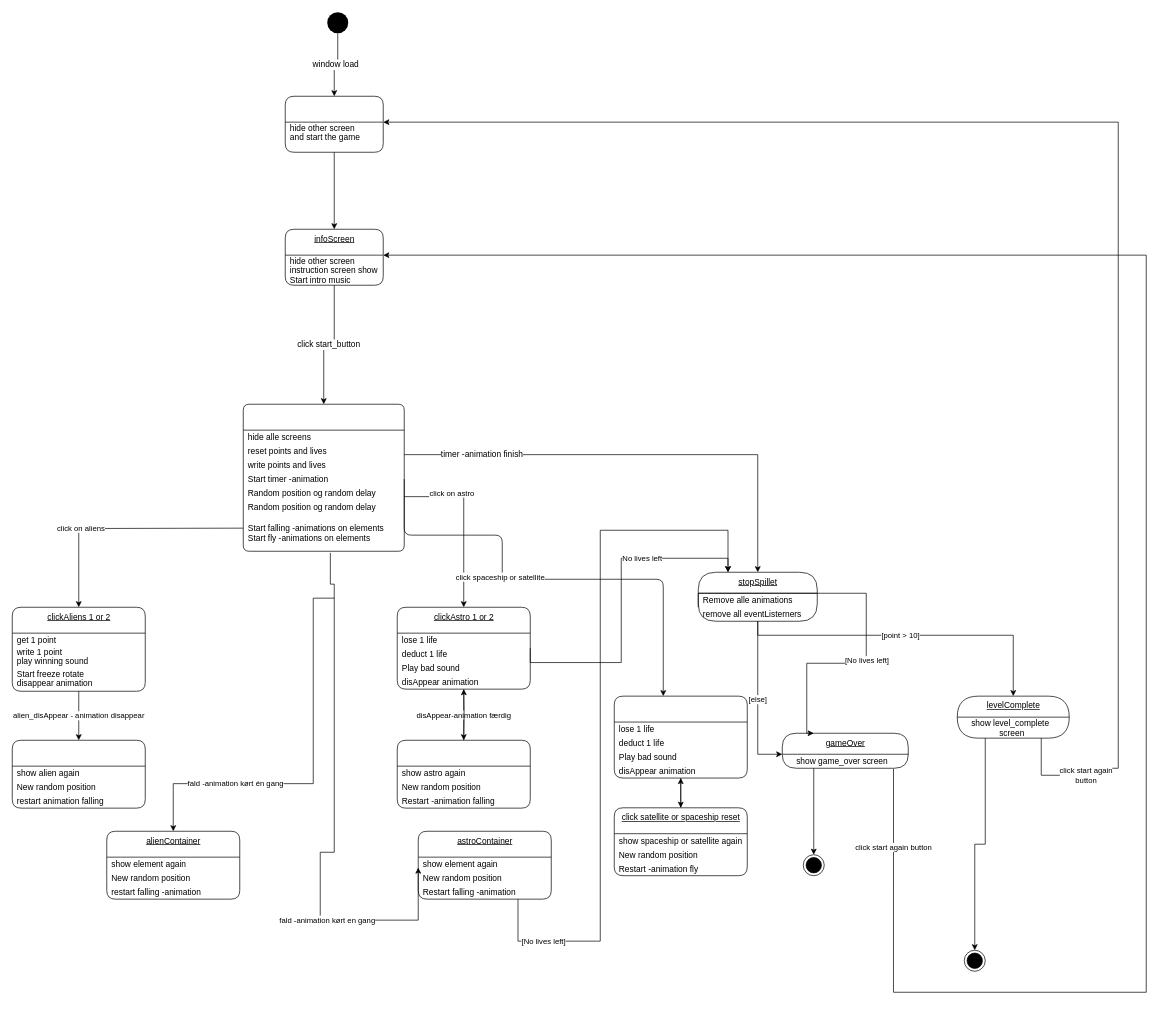
The diagram is 1164 pixels wide and 1010 high, and some of its shapes have lost their labels. Each missing label, with the box of its shape:
click satellite or spaceship: (614, 695, 747, 778)
clickAlien 1 or 2 reset: (12, 740, 145, 808)
clickAstro 1 or 2 reset: (397, 740, 530, 808)
startGame: (243, 404, 404, 551)
titleScreen: (285, 96, 383, 152)
